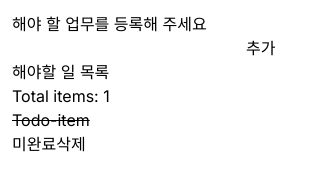
it: TodoProvider › Click delete, and check todo list item count reduced by 1
Click the button "삭제": x=71, y=144 [56,132,86,156]
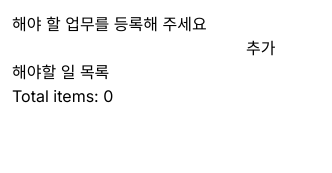
Now the text "Total items: 0" is shown, box [12,86,113,106]
